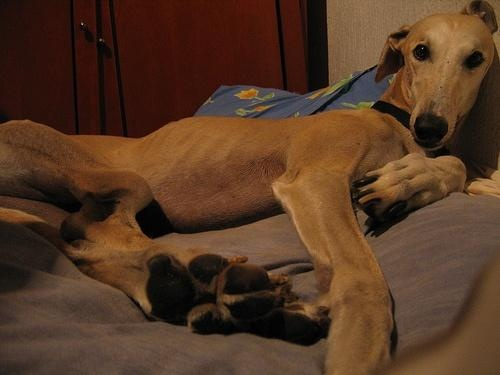dog: (3, 4, 498, 374)
